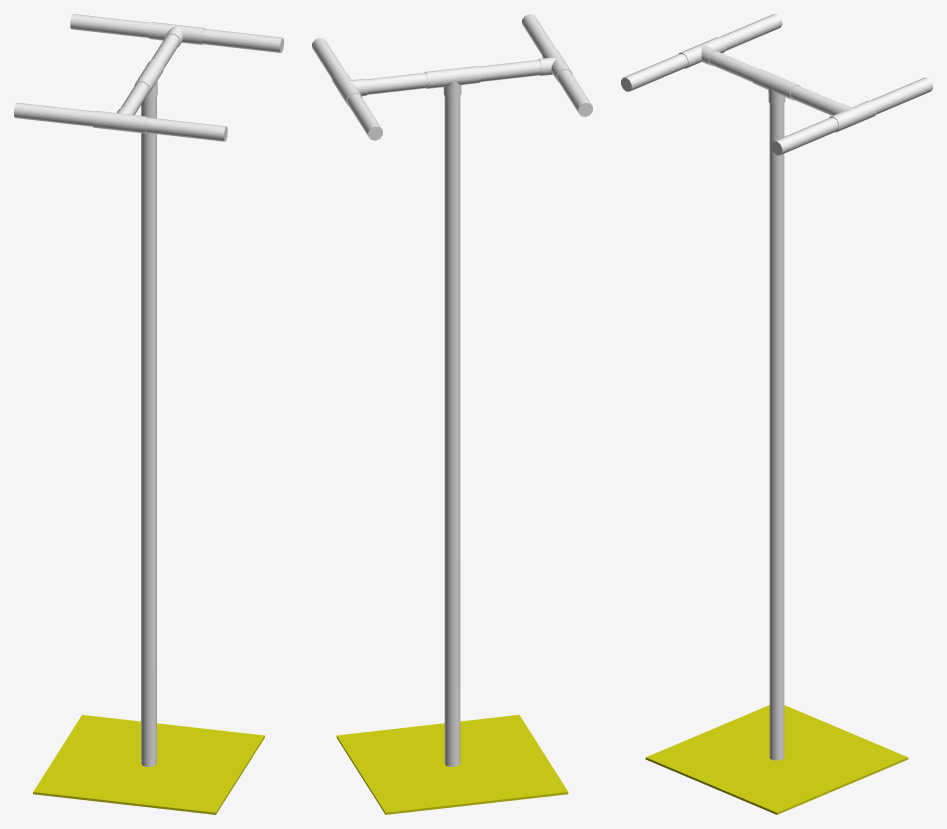
File: crucifix-task.obj
The picture shows the model from 3 angles, left to right: view 1: azimuth 30°, elevation 25°; view 2: azimuth 150°, elevation 25°; view 3: azimuth 270°, elevation 25°; orthographic projection. The views are drawn at different scales.
Parts seen in each view (by area): view 1: Bryła2, Bryła3; view 2: Bryła2, Bryła3; view 3: Bryła2, Bryła3.
Part boxes in pixels (x1,y1,x2,y2): Bryła2: (14, 14, 283, 766); Bryła3: (33, 715, 264, 814); Bryła2: (312, 14, 592, 766); Bryła3: (336, 715, 568, 814); Bryła2: (621, 14, 932, 760); Bryła3: (645, 705, 908, 814).
Size of the model in its own units: 512 by 1263 by 512.
